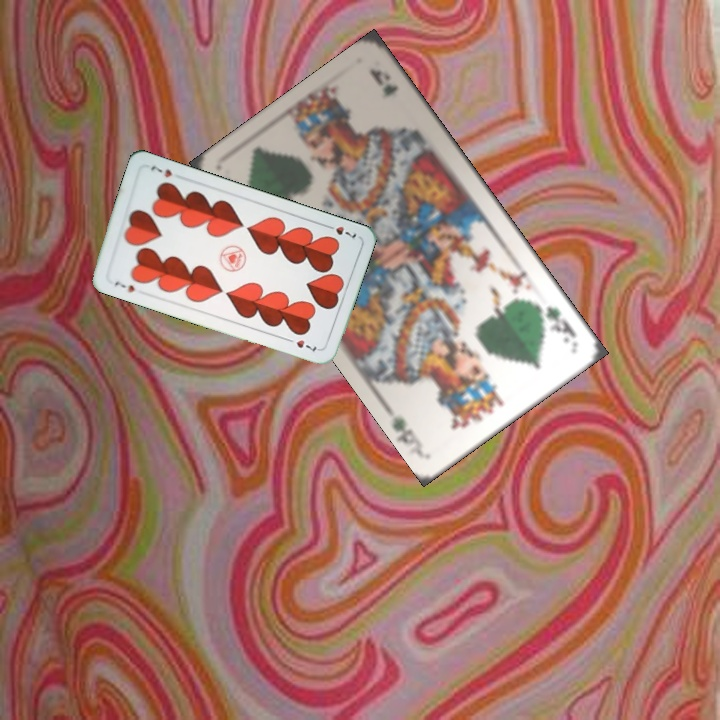GK: (531, 300, 580, 346)
H7: (321, 221, 359, 241), (111, 277, 137, 295)
